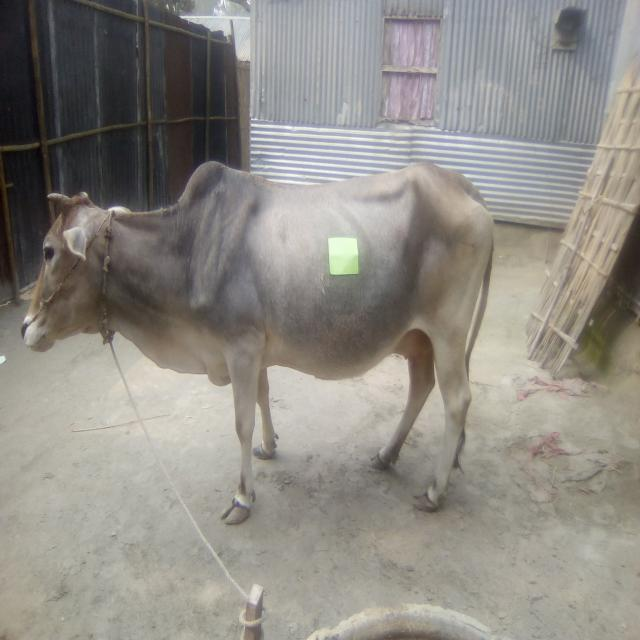badan_sapi: (199, 166, 492, 380)
sapi: (14, 152, 500, 532)
